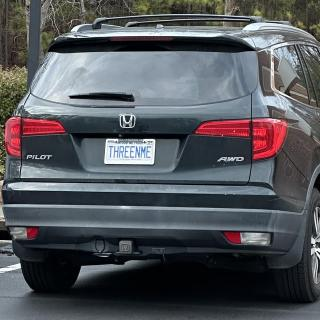license: (104, 139, 157, 167)
